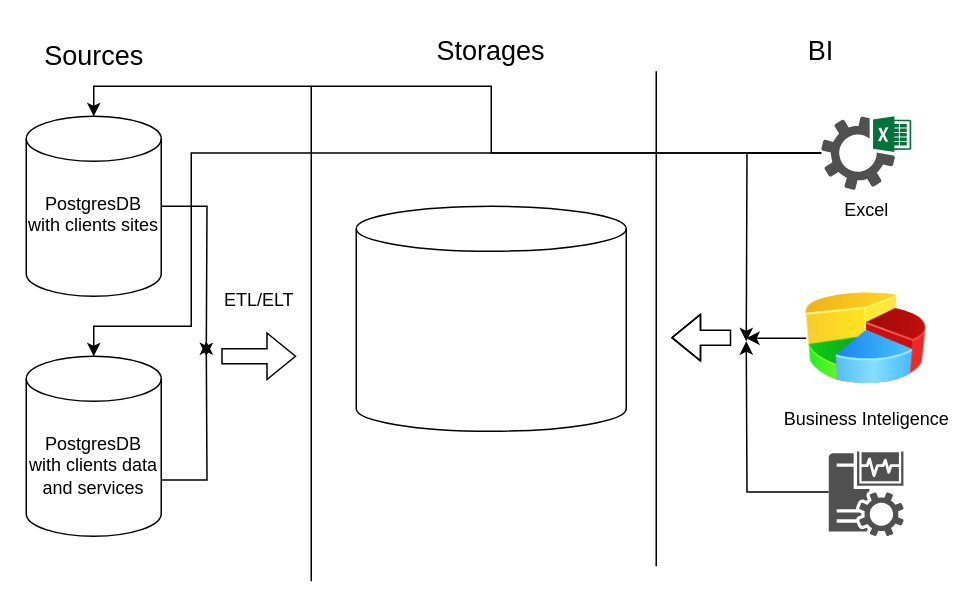
Image size: 975x609. Some labels were removed from this diagram. Each missing label, with the box of its shape:
Data Warehouse: Staging Layer Business Layer: (355, 205, 626, 431)
SQL: (828, 447, 903, 536)
